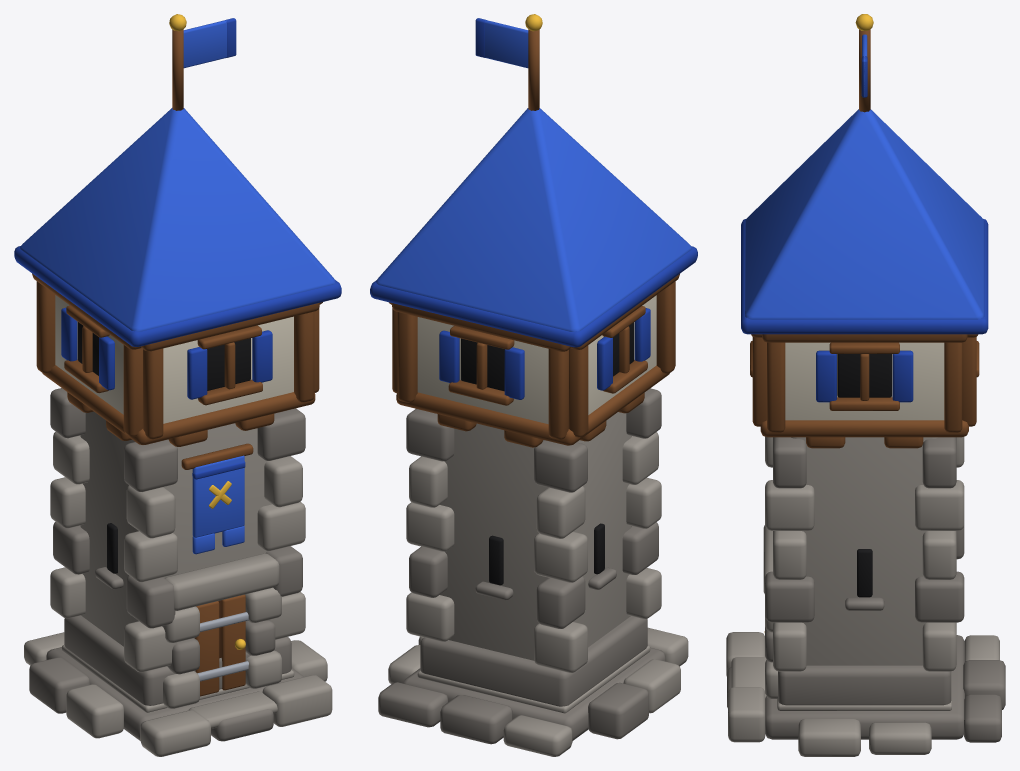
The model's file is Watchtower.glb.
The picture shows the model from 3 angles, left to right: view 1: azimuth 30°, elevation 25°; view 2: azimuth 150°, elevation 25°; view 3: azimuth 270°, elevation 25°; orthographic projection.
Visible parts, largest first — view 1: Watchtower; view 2: Watchtower; view 3: Watchtower.
Boxes of the visible parts, box(x1,y1,x2,y2) form: Watchtower: box(14, 14, 341, 756); Watchtower: box(370, 14, 697, 756); Watchtower: box(726, 14, 1005, 756).
Bounding box in the file's own units: 2.15 × 5.81 × 2.14.
